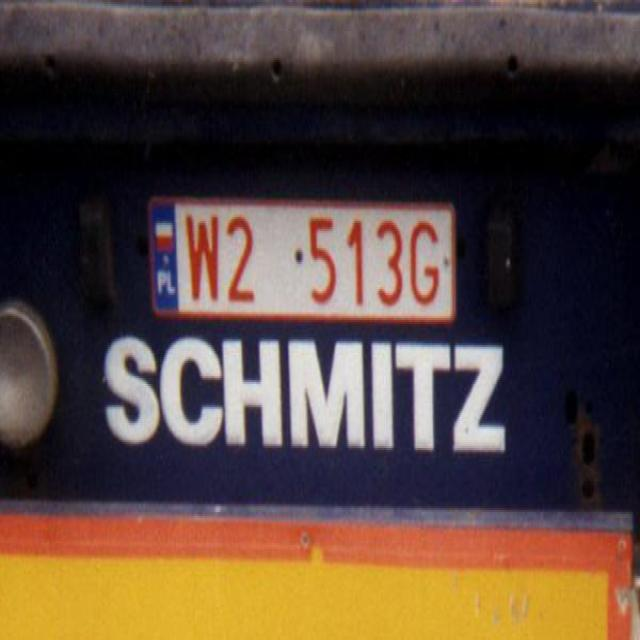pl_license_plate: (150, 200, 454, 318)
